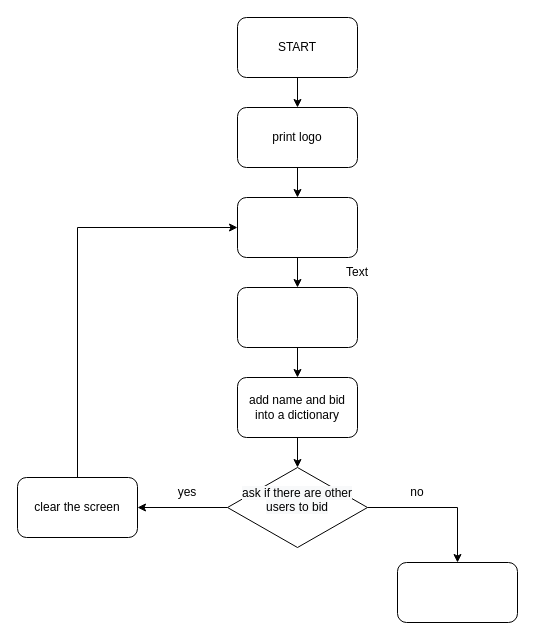
Some shapes in this 535 by 640 pixel diagram are drawn without their labels. The shapes that lost their labels are listed below. From the top down, each one's centre as x and y in pixels, then its label:
At point (297, 227): "ask for name input".
At point (297, 317): "ask for bid price".
At point (457, 592): "find the highest price and print the result".
